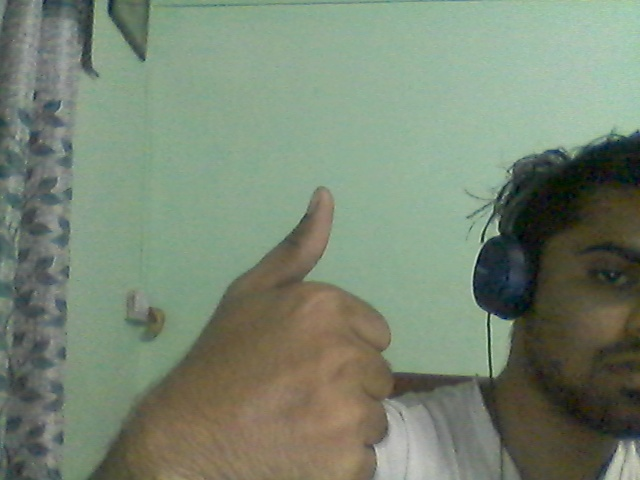Yes: (147, 166, 449, 480)
